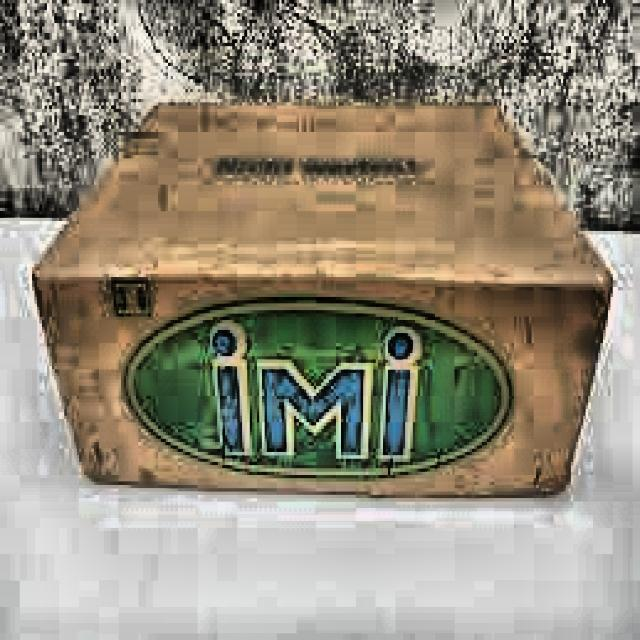Cardbox: (28, 79, 620, 520)
